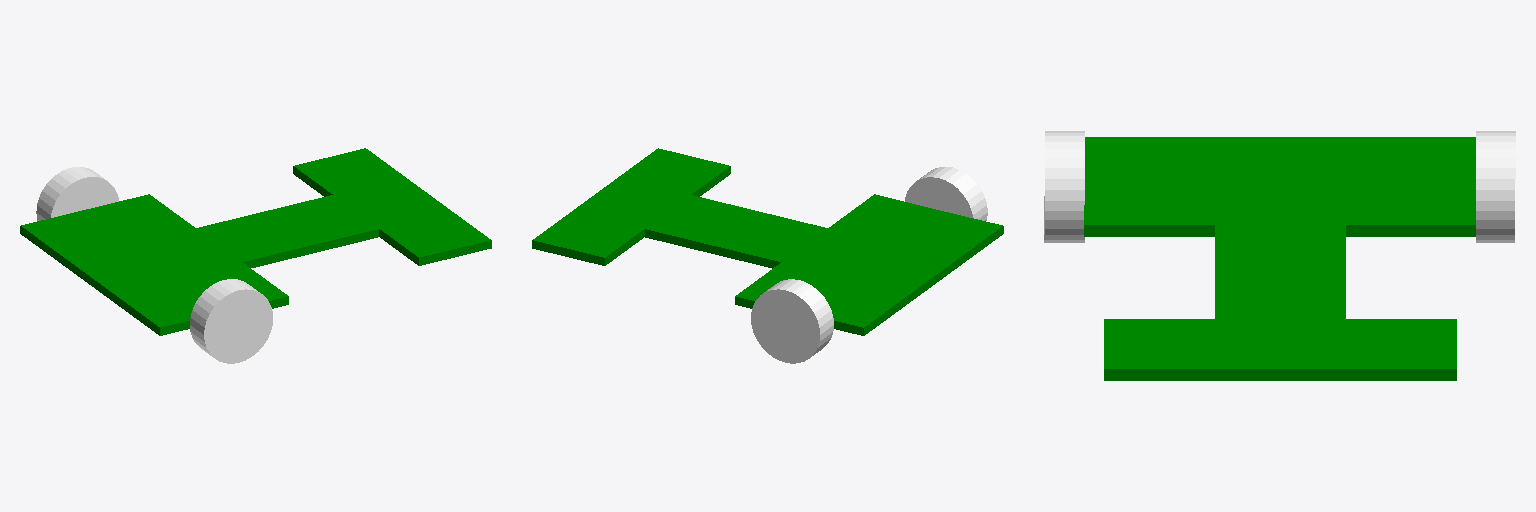
robot.urdf — FLF:
<?xml version="1.0" ?>
<!-- =================================================================================== -->
<!-- |    This document was autogenerated by xacro from [local-path]/line_follower_ws/src/line_follower_world/models/robot.urdf.xacro | -->
<!-- |    EDITING THIS FILE BY HAND IS NOT RECOMMENDED                                 | -->
<!-- =================================================================================== -->
<robot name="FLF">
  <material name="grey">
    <color rgba="0.7 0.7 0.7 1"/>
  </material>
  <material name="green">
    <color rgba="0 0.6 0.0 1"/>
  </material>
  <material name="white">
    <color rgba="1 1 1 1"/>
  </material>
  <!-- Base Footprint Link -->
  <link name="base_footprint"/>
  <!-- Base Link -->
  <link name="base_link">
    <visual>
      <geometry>
        <box size="0.08 0.15 0.005"/>
      </geometry>
      <origin rpy="0 0 0" xyz="0 0 0"/>
      <material name="green"/>
    </visual>
  </link>
  <!-- Neck Link -->
  <link name="neck_link">
    <visual>
      <geometry>
        <box size="0.085 0.05 0.005"/>
      </geometry>
      <material name="green"/>
    </visual>
  </link>
  <!-- IR Sensor Link -->
  <link name="ir_link">
    <visual>
      <geometry>
        <box size="0.045 0.135 0.005"/>
      </geometry>
      <material name="green"/>
    </visual>
  </link>
  <!-- Left Wheel -->
  <link name="left_wheel">
    <visual>
      <geometry>
        <cylinder length="0.015" radius="0.0215"/>
      </geometry>
      <material name="white"/>
    </visual>
  </link>
  <!-- Right Wheel -->
  <link name="right_wheel">
    <visual>
      <geometry>
        <cylinder length="0.015500000000000002" radius="0.0215"/>
      </geometry>
      <material name="white"/>
    </visual>
  </link>
  <!-- Joints -->
  <joint name="base_footprint_joint" type="fixed">
    <parent link="base_footprint"/>
    <child link="base_link"/>
    <origin rpy="0 0 0" xyz="0 0 0"/>
  </joint>
  <joint name="base_neck_joint" type="fixed">
    <parent link="base_link"/>
    <child link="neck_link"/>
    <origin rpy="0 0 0" xyz="0.0825 0 0"/>
  </joint>
  <joint name="base_ir_joint" type="fixed">
    <parent link="base_link"/>
    <child link="ir_link"/>
    <origin rpy="0 0 0" xyz="0.1475 0 0"/>
  </joint>
  <joint name="base_left_wheel_joint" type="continuous">
    <parent link="base_link"/>
    <child link="left_wheel"/>
    <origin rpy="1.57 0 0" xyz="0 0.0825 0"/>
    <axis xyz="0.0 0.0 1"/>
  </joint>
  <joint name="base_right_wheel_joint" type="continuous">
    <parent link="base_link"/>
    <child link="right_wheel"/>
    <origin rpy="1.57 0 0" xyz="0 -0.0825 0"/>
    <axis xyz="0.0 0.0 1"/>
  </joint>
</robot>

--- Render facts (derived) ---
The picture shows the robot from 3 angles, left to right: view 1: azimuth 30°, elevation 25°; view 2: azimuth 150°, elevation 25°; view 3: azimuth 270°, elevation 25°; orthographic projection.
Model FLF with 6 links and 5 joints (2 continuous, 3 fixed), rooted at base_footprint, posed every joint at zero.
Links seen in each view (by area): view 1: base_link, ir_link, neck_link, right_wheel, left_wheel; view 2: base_link, ir_link, neck_link, left_wheel, right_wheel; view 3: base_link, ir_link, neck_link, right_wheel, left_wheel.
Link boxes in pixels (x1,y1,x2,y2): base_link: (20, 194, 288, 335); ir_link: (293, 148, 491, 265); neck_link: (196, 195, 378, 267); right_wheel: (190, 279, 272, 363); left_wheel: (36, 167, 118, 220); base_link: (735, 194, 1003, 335); ir_link: (532, 148, 730, 265); neck_link: (645, 195, 827, 268); left_wheel: (751, 279, 833, 363); right_wheel: (905, 167, 987, 220); base_link: (1084, 137, 1475, 236); ir_link: (1104, 319, 1456, 380); neck_link: (1215, 225, 1345, 318); right_wheel: (1044, 131, 1084, 242); left_wheel: (1476, 131, 1515, 242).
Size in the robot's own frame: 0.21 by 0.1803 by 0.043 metres.
Geometry: primitives only (box / cylinder / sphere), no mesh files.